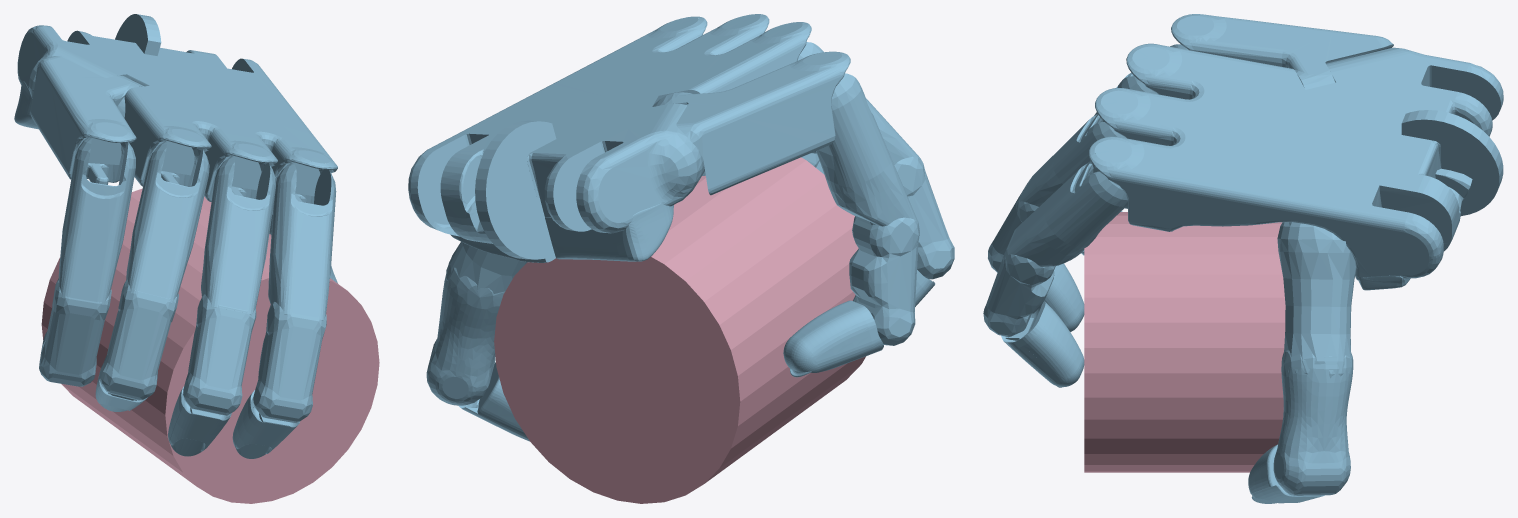
3 renders of one model, left to right at view 1: azimuth 30°, elevation 25°; view 2: azimuth 150°, elevation 25°; view 3: azimuth 270°, elevation 25°, orthographic. The views are drawn at different scales.
Visible parts, largest first — view 1: world; view 2: world; view 3: world.
Boxes of the visible parts, bbox=[...] form: world: bbox=[14, 14, 379, 503]; world: bbox=[408, 14, 954, 503]; world: bbox=[983, 14, 1503, 503].
Size of the model in its own units: 0.1353 by 0.1292 by 0.1594.
